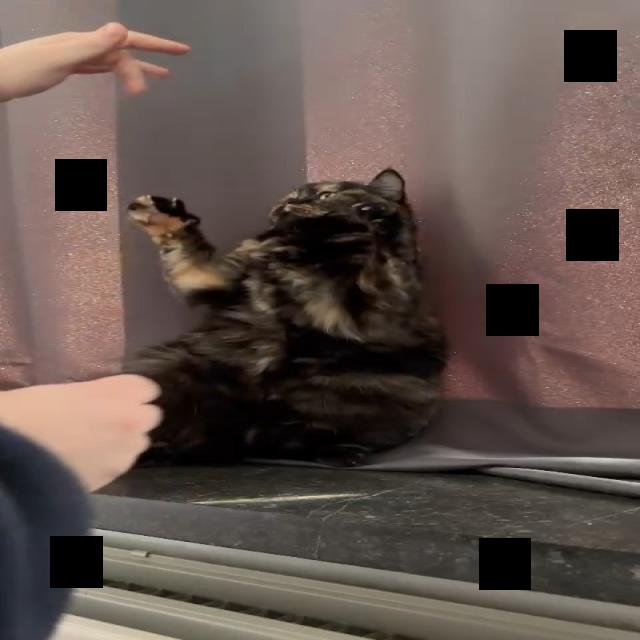authorized: (119, 167, 449, 468)
